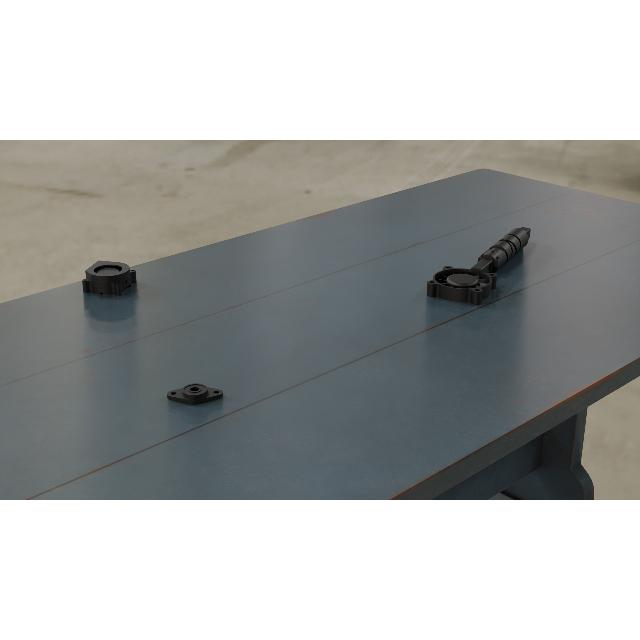Pieza1: (464, 222, 536, 286)
Pieza2: (165, 382, 223, 404)
Pieza3: (80, 260, 138, 298)
Pieza4: (424, 265, 500, 307)
